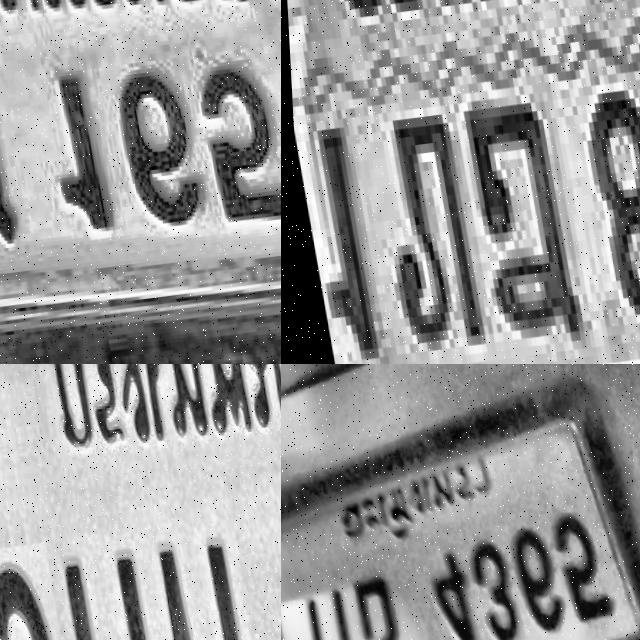license-plate: (281, 0, 640, 364), (0, 0, 281, 364), (281, 412, 640, 640), (0, 364, 281, 640)
